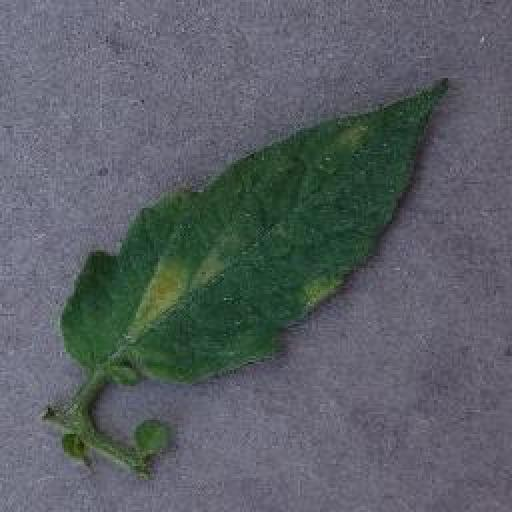Leaf Mold: (60, 80, 451, 387)
